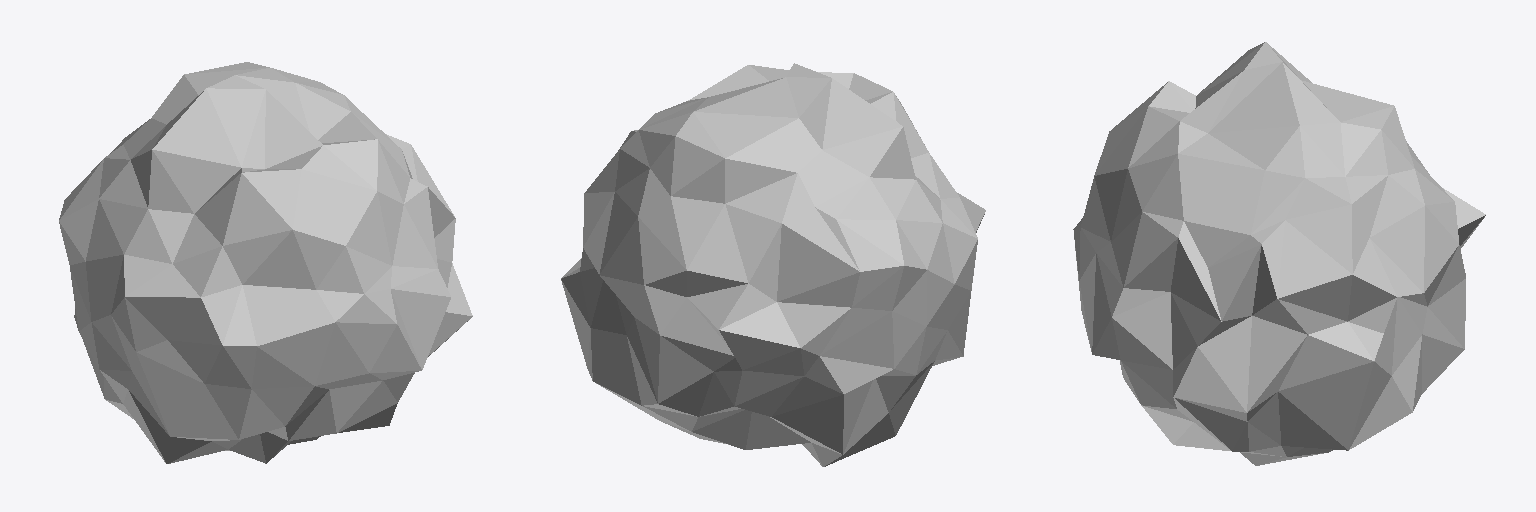
Rendered from fire_000025.obj.
The picture shows the model from 3 angles: view 1: azimuth 30°, elevation 25°; view 2: azimuth 150°, elevation 25°; view 3: azimuth 270°, elevation 25°; orthographic projection.
Visible parts, largest first — view 1: Icosphere; view 2: Icosphere; view 3: Icosphere.
Part boxes in pixels (x1,y1,x2,y2): Icosphere: (59,62,472,463); Icosphere: (561,63,985,466); Icosphere: (1073,42,1485,465).
Size of the model in its own units: 1.52 by 1.59 by 1.6.